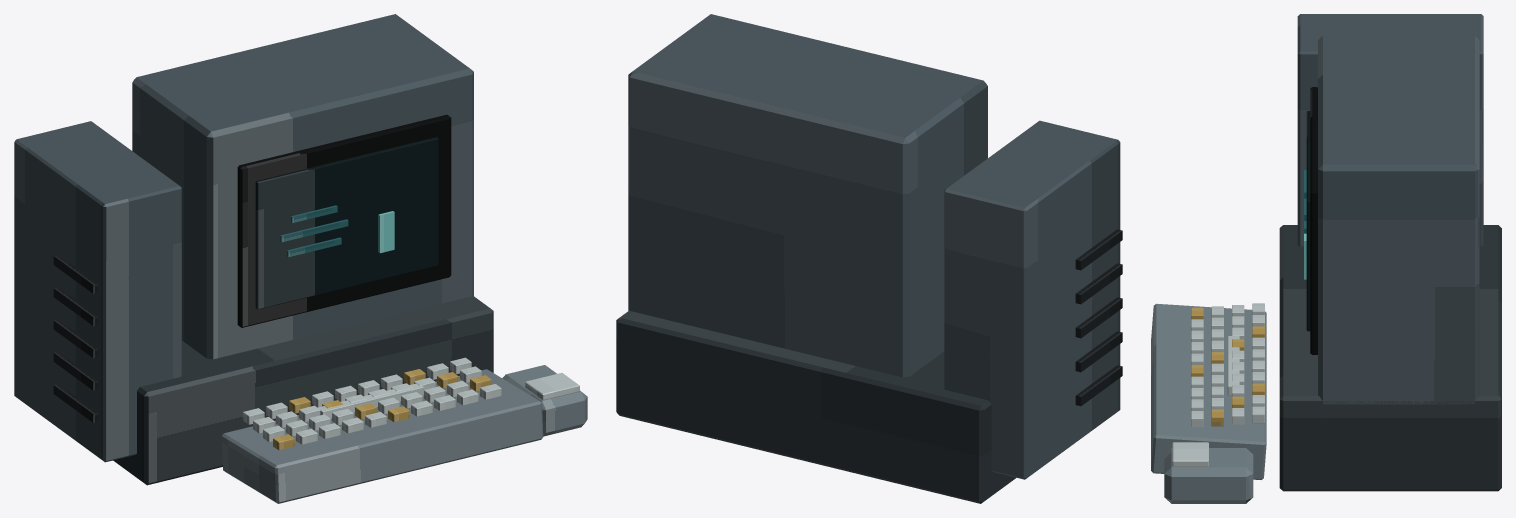
Rendered from retro_computer_compact_charcoal.glb.
3 renders of one model, left to right at view 1: azimuth 30°, elevation 25°; view 2: azimuth 150°, elevation 25°; view 3: azimuth 270°, elevation 25°, orthographic. The views are drawn at different scales.
Parts seen in each view (by area): view 1: MonitorShell, SideExpansion, CompactBase, MonitorGlow, KeyboardBody, MonitorFace, Mouse, MouseButton, SpaceBar, ScreenGlyph_4, SideVent_1, SideVent_0 (+3 smaller); view 2: MonitorShell, SideExpansion, CompactBase, SideVent_3, SideVent_4, SideVent_0, SideVent_2, SideVent_1; view 3: MonitorShell, CompactBase, KeyboardBody, SideExpansion, Mouse, MonitorFace, MonitorGlow, MouseButton, SpaceBar.
Boxes of the visible parts, x1,y1,x2,y2 form: MonitorShell: (132,14,473,359); SideExpansion: (14,121,181,462); CompactBase: (113,295,493,485); MonitorGlow: (255,137,438,309); KeyboardBody: (222,369,543,503); MonitorFace: (237,114,451,327); Mouse: (502,365,587,436); MouseButton: (525,373,579,399); SpaceBar: (318,383,423,418); ScreenGlyph_4: (378,211,394,253); SideVent_1: (53,351,98,390); SideVent_0: (53,384,98,422); MonitorShell: (628,14,987,377); SideExpansion: (944,120,1120,479); CompactBase: (616,310,1016,503); SideVent_3: (1075,263,1122,304); SideVent_4: (1075,229,1122,270); SideVent_0: (1075,365,1122,406); SideVent_2: (1075,297,1122,338); SideVent_1: (1075,331,1122,372); MonitorShell: (1318,35,1479,404); CompactBase: (1279,225,1501,491); KeyboardBody: (1151,303,1266,479); SideExpansion: (1297,14,1483,246); Mouse: (1164,448,1253,503); MonitorFace: (1310,87,1317,354); MonitorGlow: (1306,111,1310,331); MouseButton: (1172,442,1208,466); SpaceBar: (1227,336,1239,395).
Size of the model in its own units: 1.25 by 0.89 by 0.8679.
1 material, 1 textured.
